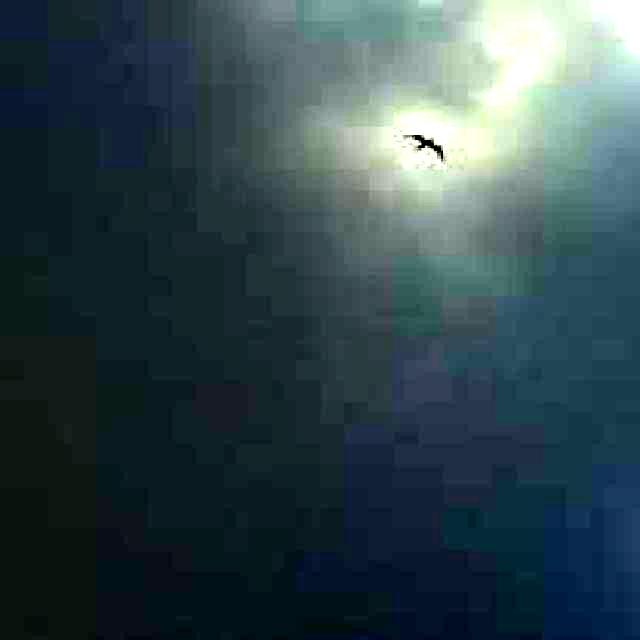bird: (404, 125, 448, 164)
